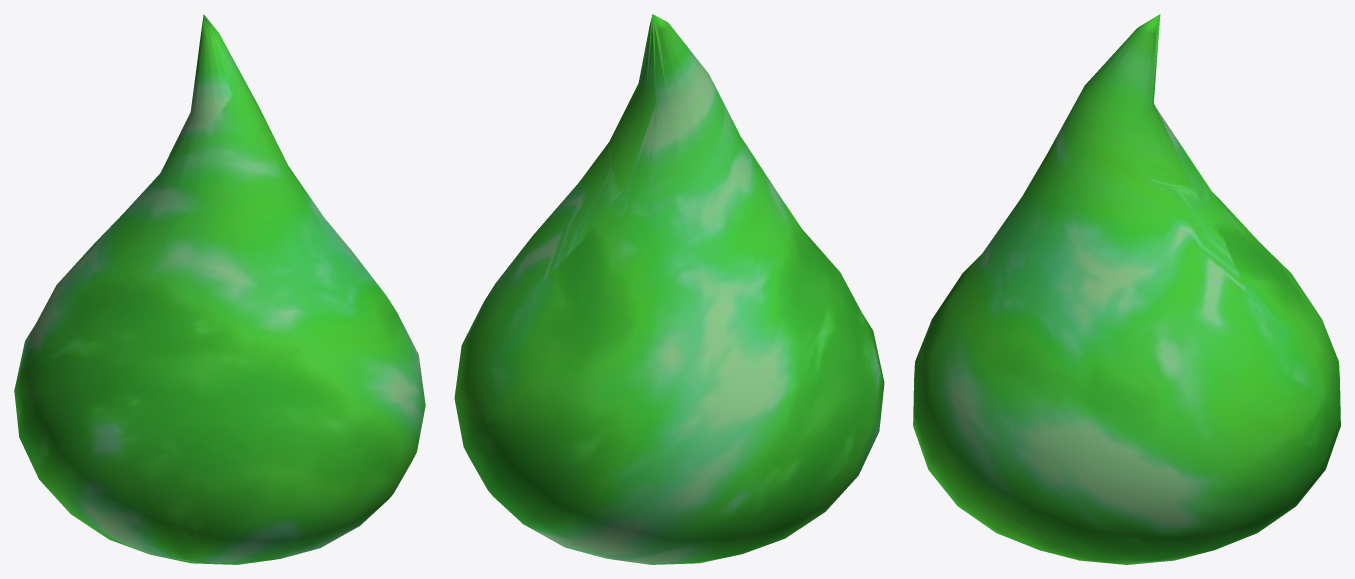
The model's file is blop1.fbx.
3 renders of one model, left to right at view 1: azimuth 30°, elevation 25°; view 2: azimuth 150°, elevation 25°; view 3: azimuth 270°, elevation 25°, orthographic. The views are drawn at different scales.
Visible parts, largest first — view 1: Blop1; view 2: Blop1; view 3: Blop1.
Part boxes in pixels (<box>): Blop1: <box>14,14,425,564</box>; Blop1: <box>454,14,884,564</box>; Blop1: <box>913,14,1340,564</box>.
Bounding box in the file's own units: 117 × 163 × 122.
1 material, 1 textured.
